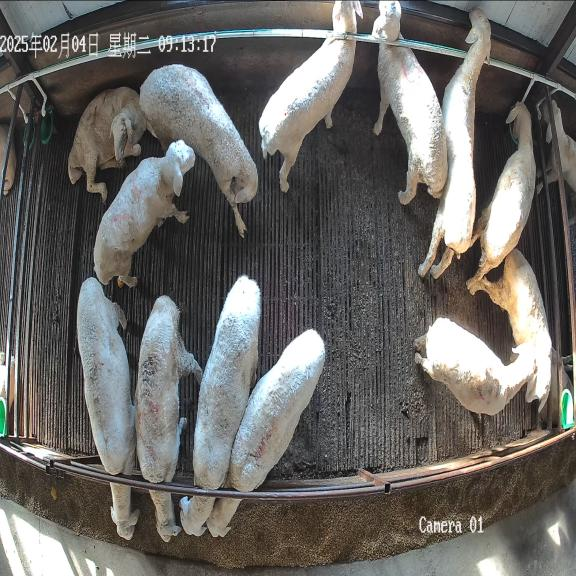drinking: (468, 102, 536, 294)
eating: (206, 329, 325, 537), (181, 276, 260, 536), (77, 277, 140, 540), (135, 296, 201, 542)
lying: (68, 87, 150, 201)
stand: (139, 64, 258, 237), (259, 0, 362, 191), (418, 9, 491, 278), (372, 0, 448, 204), (93, 140, 195, 287), (467, 248, 551, 413), (414, 318, 537, 415)
